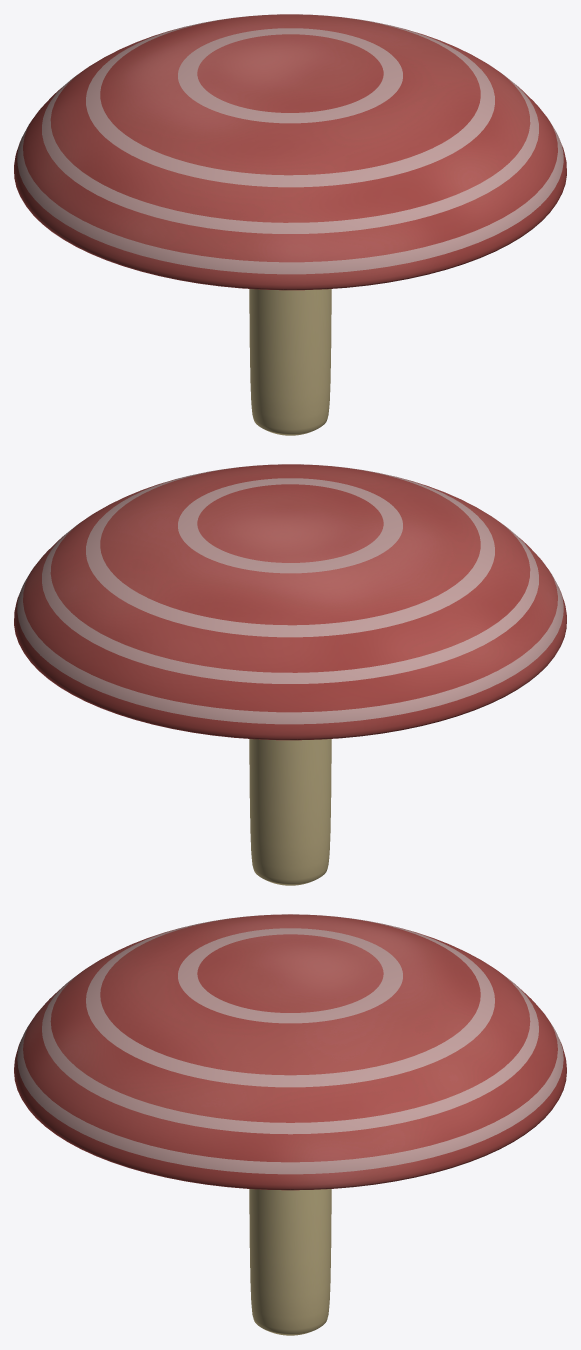
The model's file is kinoko.fbx.
3 renders of one model, top to bottom at view 1: azimuth 30°, elevation 25°; view 2: azimuth 150°, elevation 25°; view 3: azimuth 270°, elevation 25°, orthographic.
Visible parts, largest first — view 1: pSphere2; view 2: pSphere2; view 3: pSphere2.
Part boxes in pixels (box(x1,y1,x2,y2)): pSphere2: box(14, 14, 566, 435); pSphere2: box(14, 464, 566, 885); pSphere2: box(14, 914, 566, 1335).
Bounding box in the file's own units: 19.53 × 13.97 × 19.53.
